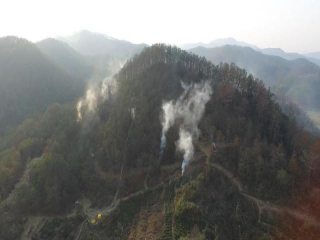smoke: (76, 70, 213, 173)
